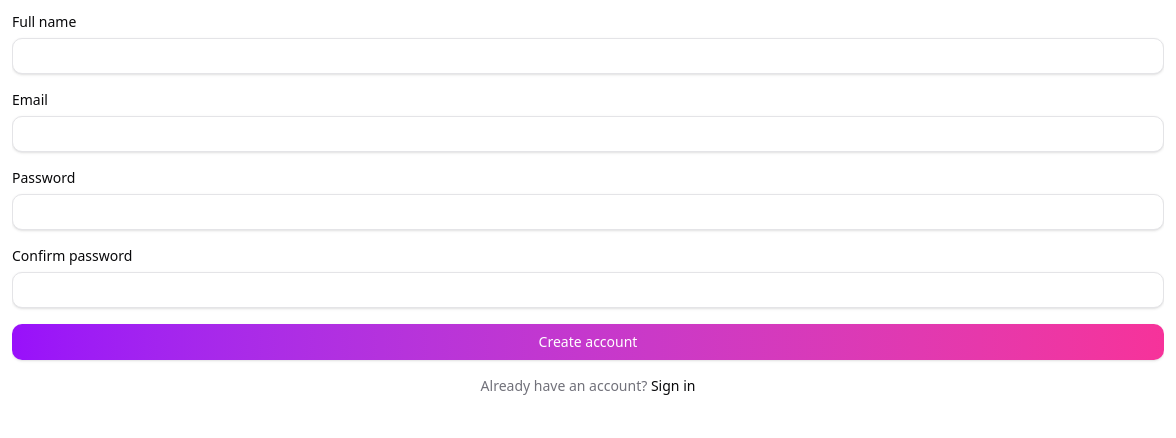
it: RegisterForm › shows a validation error when the password is too short
In the field labelled "Full name": [588, 56] box [12, 38, 1164, 74], type "Jane Doe"
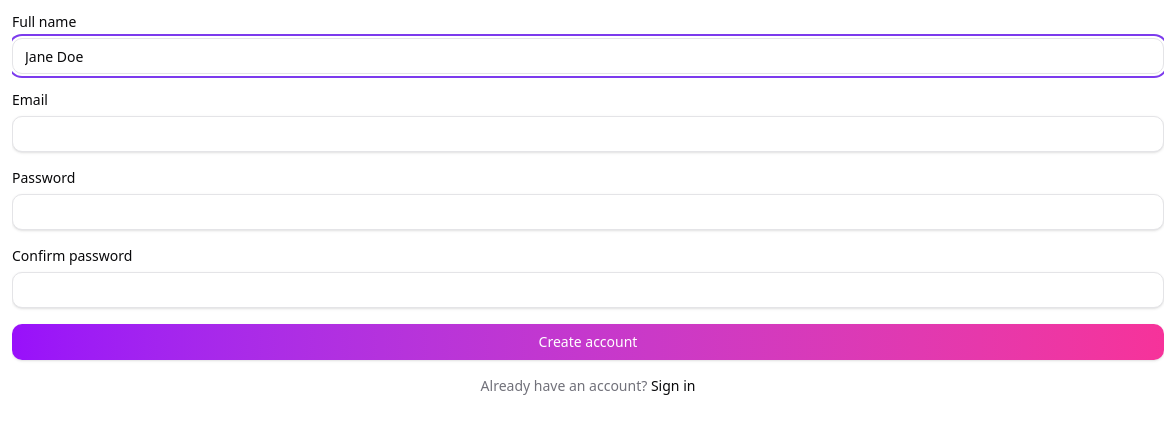
In the field labelled "Email": [588, 134] box [12, 116, 1164, 152], type "jane@example.com"
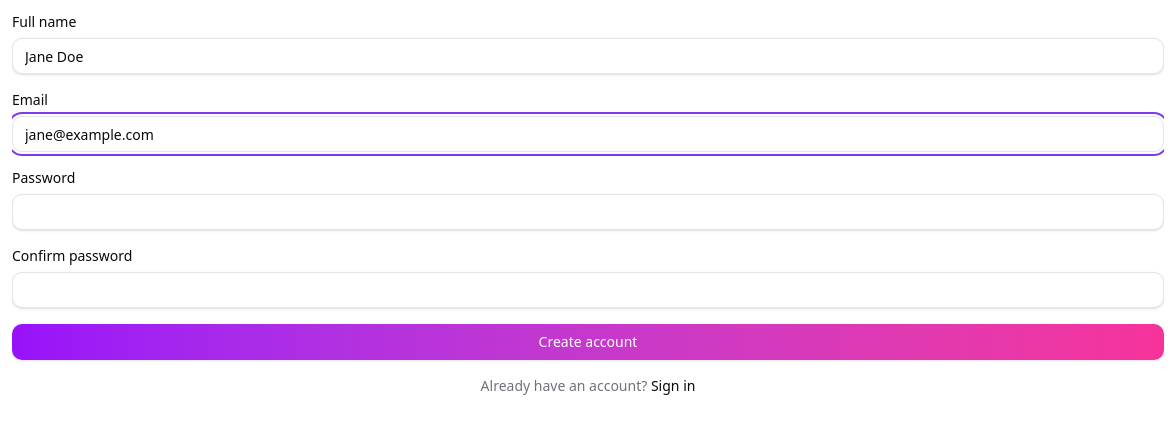
In the password field labelled "Password": [588, 212] box [12, 194, 1164, 230], type "short"
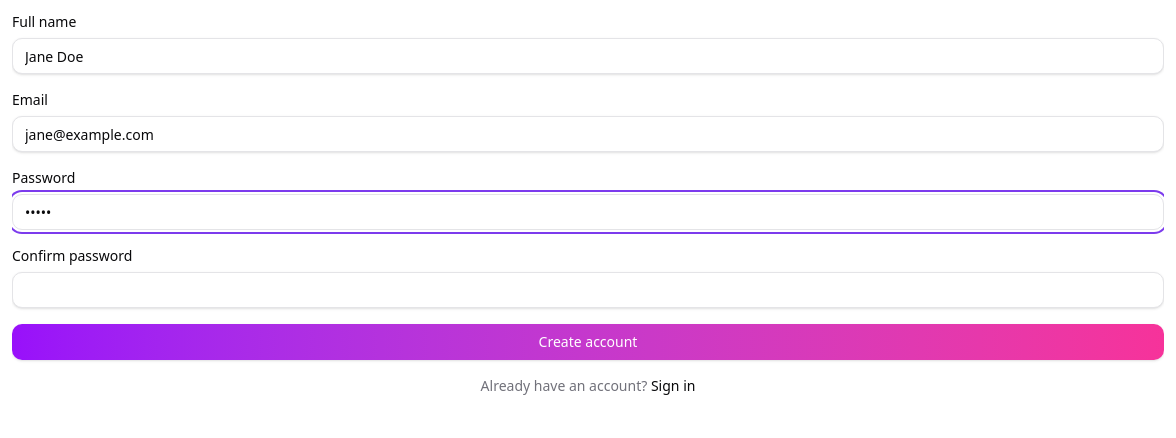
In the password field labelled "Confirm password": [588, 290] box [12, 272, 1164, 308], type "short"
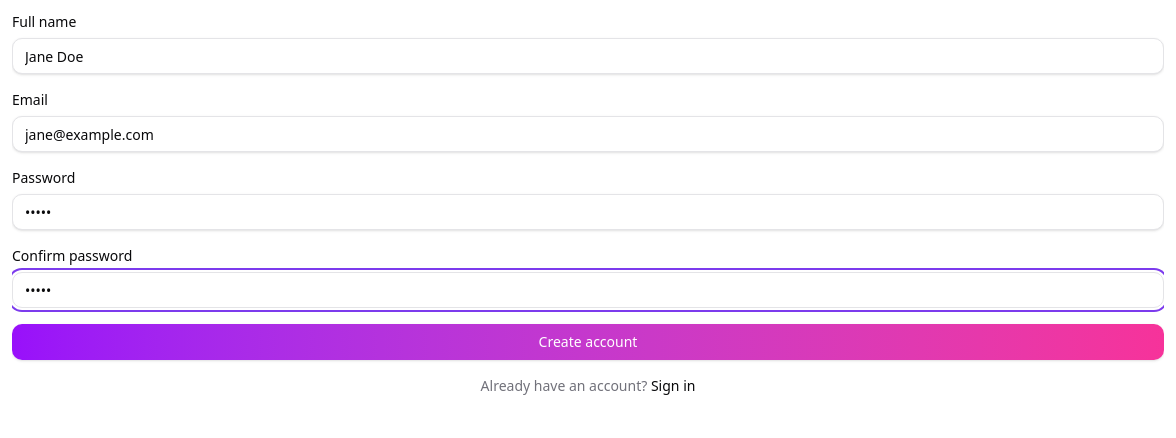
Click the button "Create account": [588, 342] box [12, 324, 1164, 360]
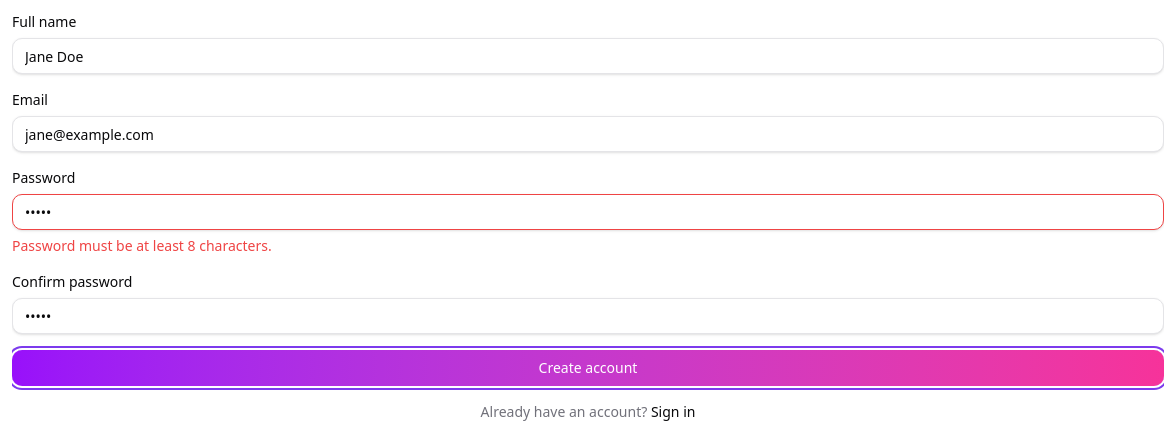
Expected: the text "Password must be at least 8 characters." is shown, [12, 236, 272, 255]
